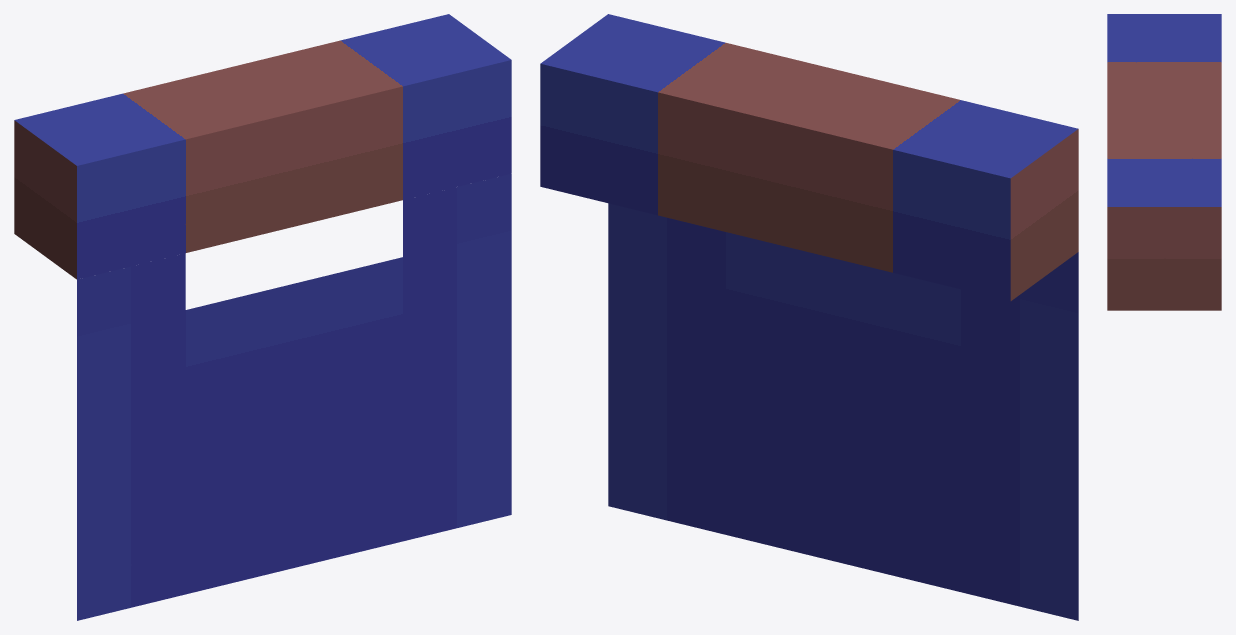
File: _Blue Banner Hanging.glb
The picture shows the model from 3 angles, left to right: view 1: azimuth 30°, elevation 25°; view 2: azimuth 150°, elevation 25°; view 3: azimuth 270°, elevation 25°; orthographic projection. The views are drawn at different scales.
Visible parts, largest first — view 1: cube; view 2: cube; view 3: cube.
Part boxes in pixels (x1,y1,x2,y2): cube: (14, 14, 511, 620); cube: (540, 14, 1078, 620); cube: (1107, 14, 1221, 310).
Size of the model in its own units: 1 by 1 by 0.2501.
1 material, 1 textured.
